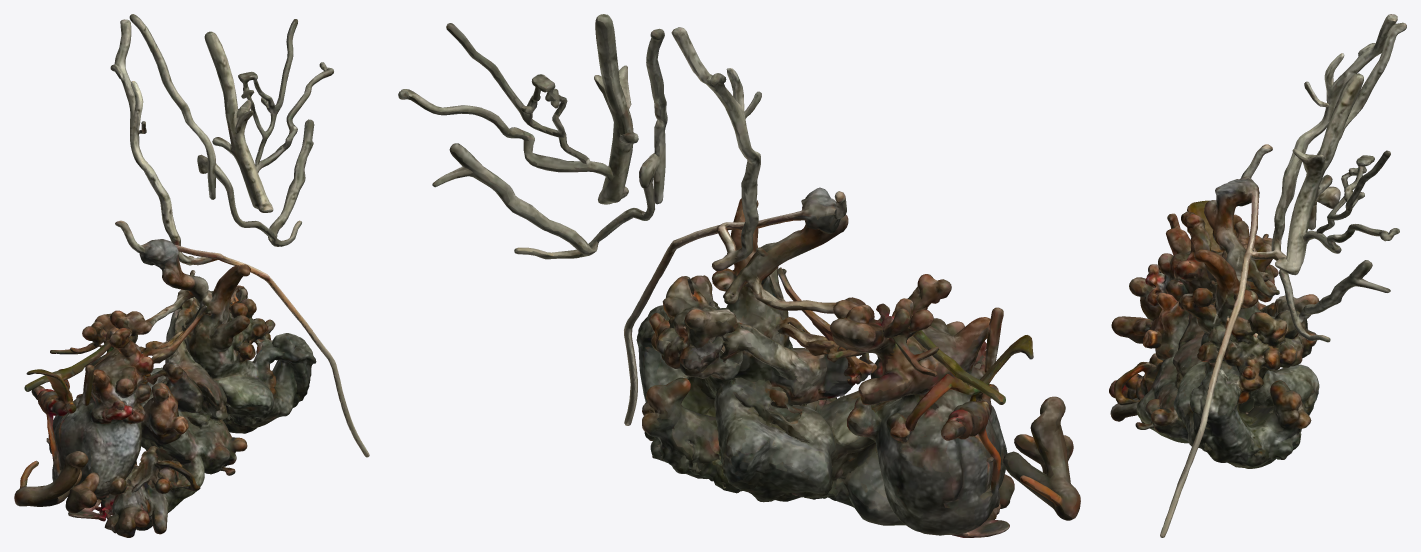
Rendered from macro-rootwood-v7.glb.
3 renders of one model, left to right at view 1: azimuth 30°, elevation 25°; view 2: azimuth 150°, elevation 25°; view 3: azimuth 270°, elevation 25°, orthographic. The views are drawn at different scales.
Parts seen in each view (by area): view 1: geometry_0; view 2: geometry_0; view 3: geometry_0.
Part boxes in pixels (x1,y1,x2,y2): geometry_0: [14, 14, 369, 537]; geometry_0: [398, 14, 1080, 537]; geometry_0: [1109, 14, 1406, 537].
Bounding box in the file's own units: 0.45 × 0.4365 × 0.2557.
Materials: 1 (1 with a texture image).
